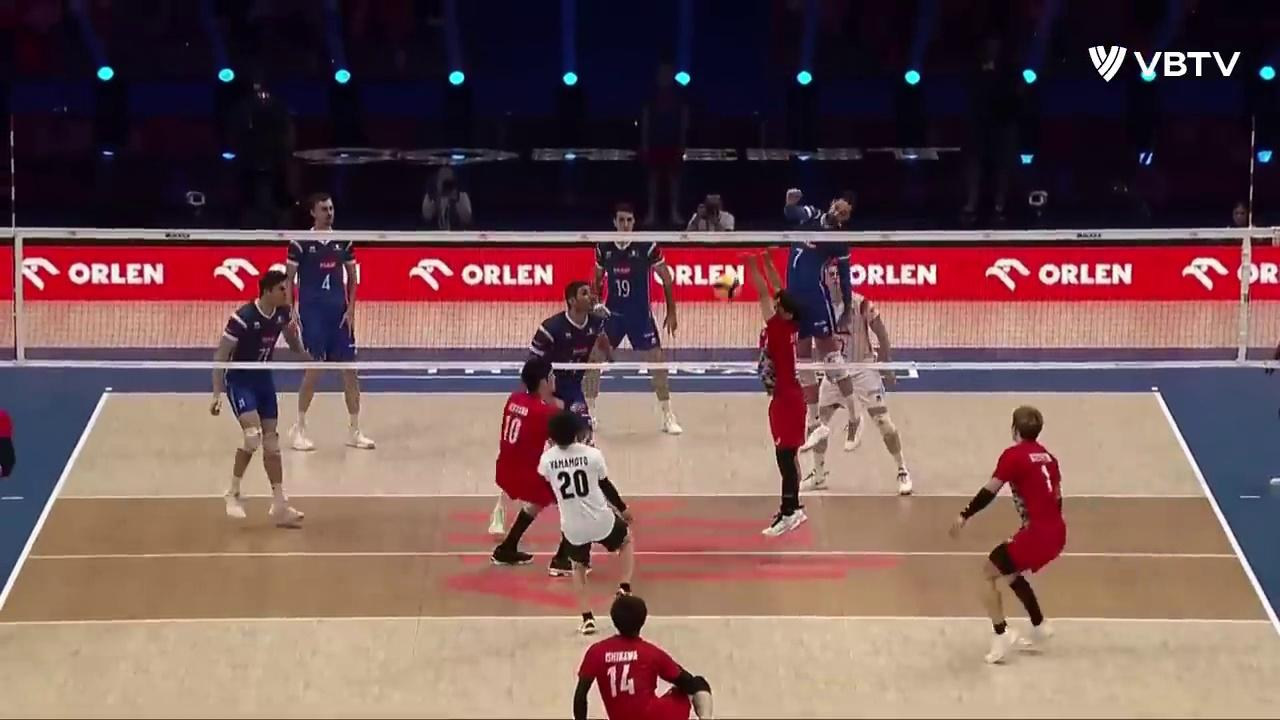ball: (714, 273, 742, 303)
